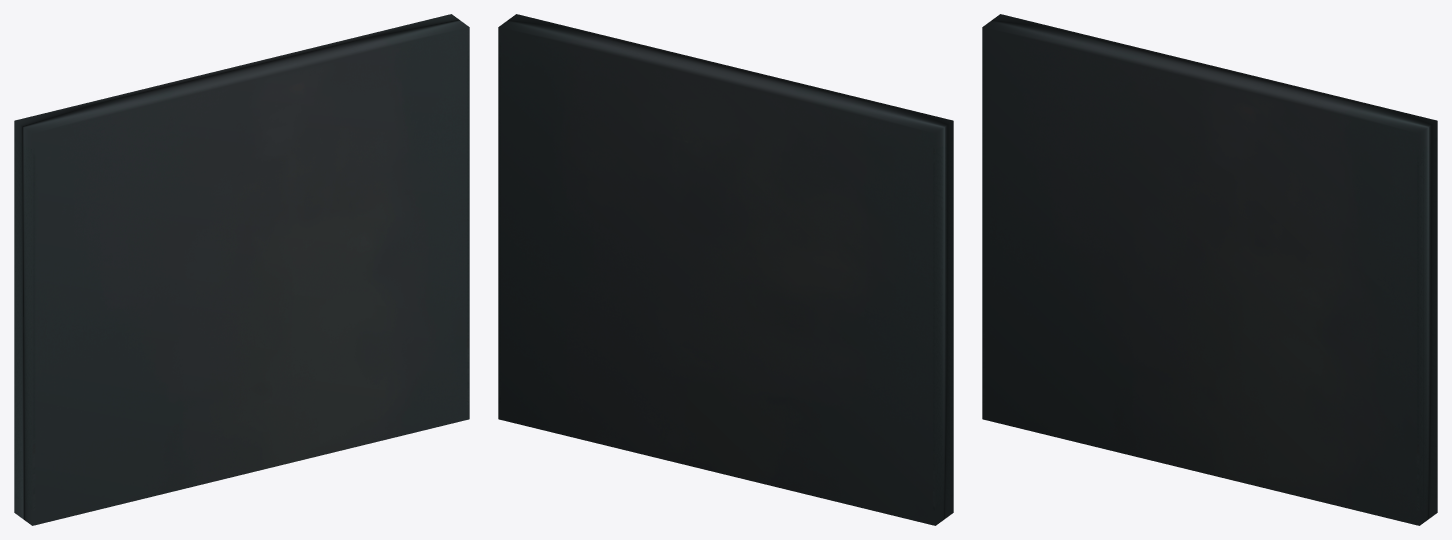
Rendered from SM_PorteHangar.glb.
3 views of the same model, side by side, from view 1: azimuth 30°, elevation 25°; view 2: azimuth 150°, elevation 25°; view 3: azimuth 330°, elevation 25° (orthographic).
Size of the model in its own units: 2 by 1.71 by 0.1429.
Materials: 1 (1 with a texture image).
